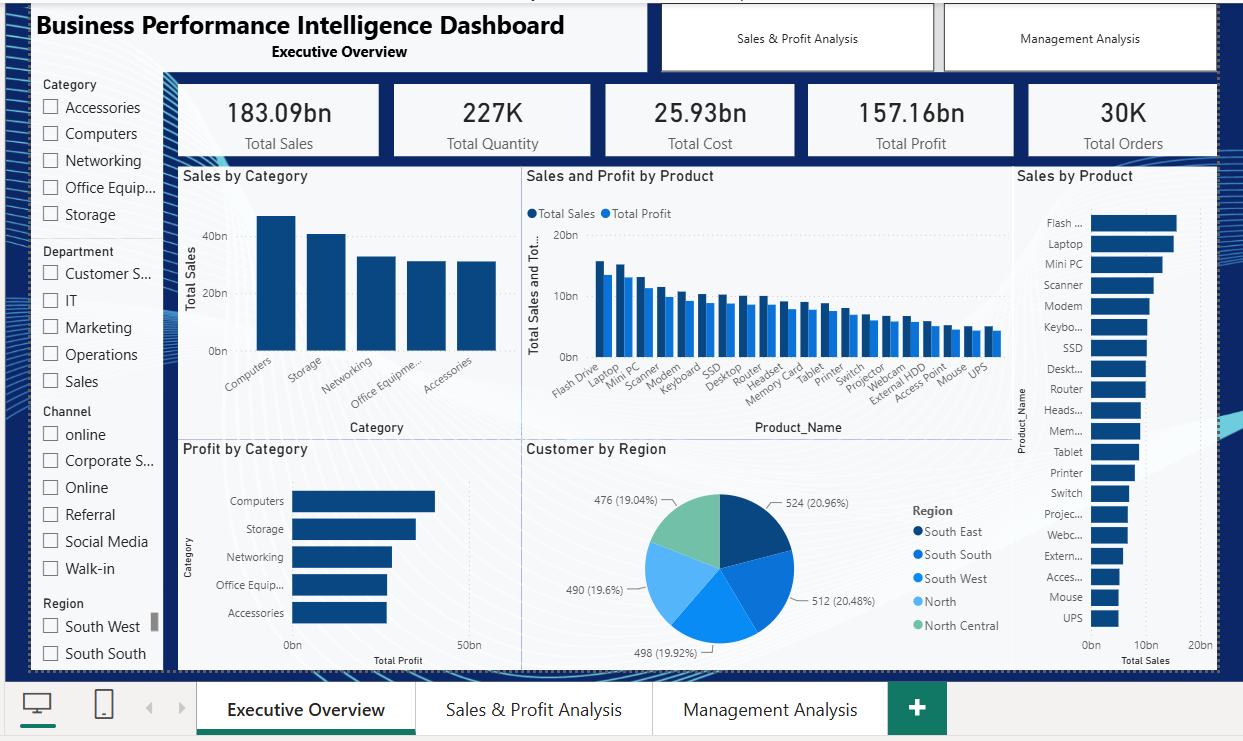

This screenshot's page, from the dashboard's own definition file:
{"tool":"powerbi","page":{"name":"Executive Overview","canvas":[1280,720],"ordinal":0},"visuals":[{"type":"textbox","box":[0,0,665.5,74.5],"z":0},{"type":"slicer","fields":{"Values":["Dim_Products.Category"]},"box":[0,74.5,142.5,179.7],"z":1000},{"type":"slicer","fields":{"Values":["Fact_Expenses.Department"]},"box":[0,254.2,142.5,173.3],"z":2000},{"type":"slicer","fields":{"Values":["Fact_Sales.Channel"]},"box":[0,427.5,142.5,207.3],"z":3000},{"type":"slicer","fields":{"Values":["Dim_Customers.Region"]},"box":[0,634.7,142.5,85.8],"z":4000},{"type":"card","fields":{"Values":["Dim_Customers.Total Sales"]},"box":[158.7,87.4,217,77.7],"z":5000},{"type":"card","fields":{"Values":["Dim_Customers.Total Quantity"]},"box":[391.9,87.4,212.1,77.7],"z":6000},{"type":"card","fields":{"Values":["Dim_Customers.Total Cost"]},"box":[620.2,87.4,204,77.7],"z":7000},{"type":"card","fields":{"Values":["Dim_Customers.Total Profit"]},"box":[838.8,87.4,221.8,77.7],"z":8000},{"type":"card","fields":{"Values":["Dim_Customers.Total Orders"]},"box":[1076.8,87.4,204,77.7],"z":9000},{"type":"clusteredBarChart","title":"Sales by Product","fields":{"Category":["Dim_Products.Product_Name"],"Y":["Dim_Customers.Total Sales"]},"box":[1059,176.5,221.8,544.1],"z":10000},{"type":"clusteredColumnChart","title":"Sales by Category","fields":{"Category":["Dim_Products.Category"],"Y":["Dim_Customers.Total Sales"]},"box":[158.7,176.5,370.8,294.7],"z":11000},{"type":"clusteredBarChart","title":"Profit by Category","fields":{"Category":["Dim_Products.Category"],"Y":["Dim_Customers.Total Profit"]},"box":[158.7,471.2,370.8,249.4],"z":12000},{"type":"lineClusteredColumnComboChart","title":"Sales and Profit by Product","fields":{"Y":["Dim_Customers.Total Sales","Dim_Customers.Total Profit"],"Category":["Dim_Products.Product_Name"]},"box":[529.5,176.5,531.1,294.7],"z":13000},{"type":"pieChart","title":"Customer by Region","fields":{"Category":["Dim_Customers.Region"],"Y":["Dim_Customers.Total Customer"]},"box":[530,471,530,249],"z":14000},{"type":"pageNavigator","box":[680.1,0,600.7,74.5],"z":14001}]}

Visuals, with their boxes in screenshot pixels (x1, y1, x2, y2):
textbox: (29,0,644,69)
slicer - Dim_Products.Category: (29,69,161,235)
slicer - Fact_Expenses.Department: (29,235,161,395)
slicer - Fact_Sales.Channel: (29,395,161,586)
slicer - Dim_Customers.Region: (29,586,161,666)
card - Dim_Customers.Total Sales: (176,81,376,153)
card - Dim_Customers.Total Quantity: (391,81,587,153)
card - Dim_Customers.Total Cost: (602,81,790,153)
card - Dim_Customers.Total Profit: (804,81,1009,153)
card - Dim_Customers.Total Orders: (1024,81,1212,153)
"Sales by Product" clusteredBarChart: (1007,163,1212,666)
"Sales by Category" clusteredColumnChart: (176,163,518,435)
"Profit by Category" clusteredBarChart: (176,435,518,666)
"Sales and Profit by Product" lineClusteredColumnComboChart: (518,163,1009,435)
"Customer by Region" pieChart: (519,435,1008,665)
pageNavigator: (657,0,1212,69)
